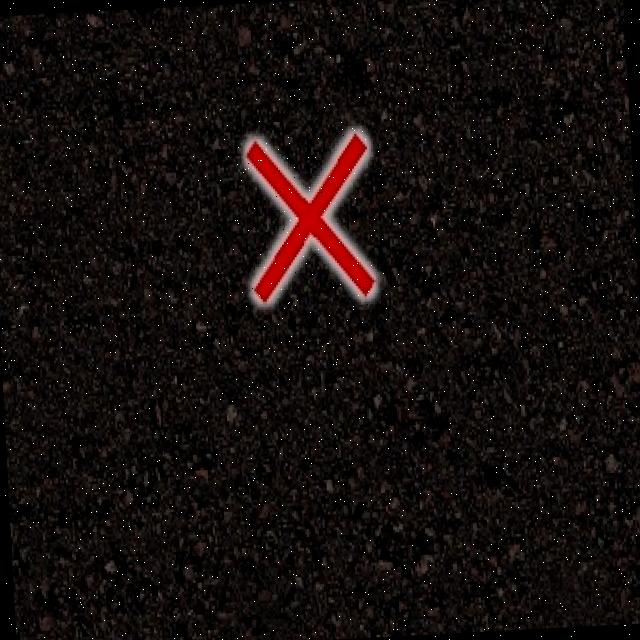x_marker: (245, 132, 374, 301)
